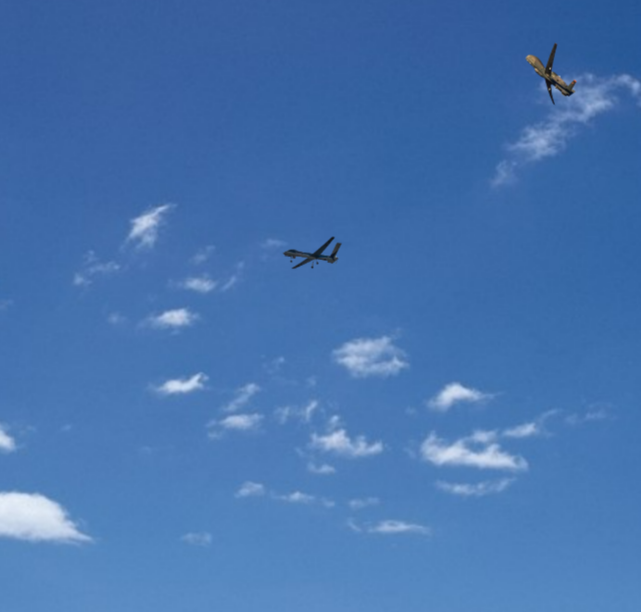military drone: (524, 42, 576, 104), (282, 236, 341, 268)
